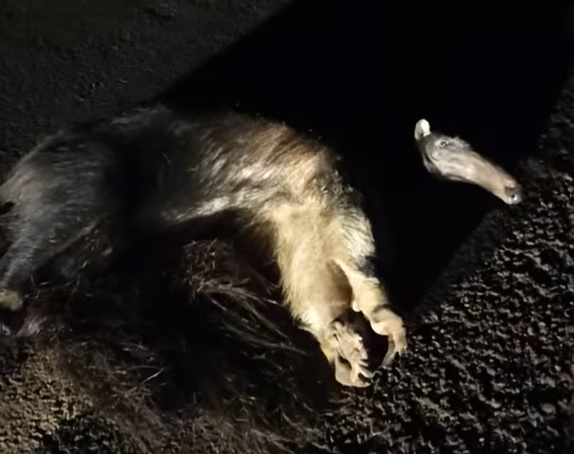TamanduaBandeira: (34, 101, 528, 396)
